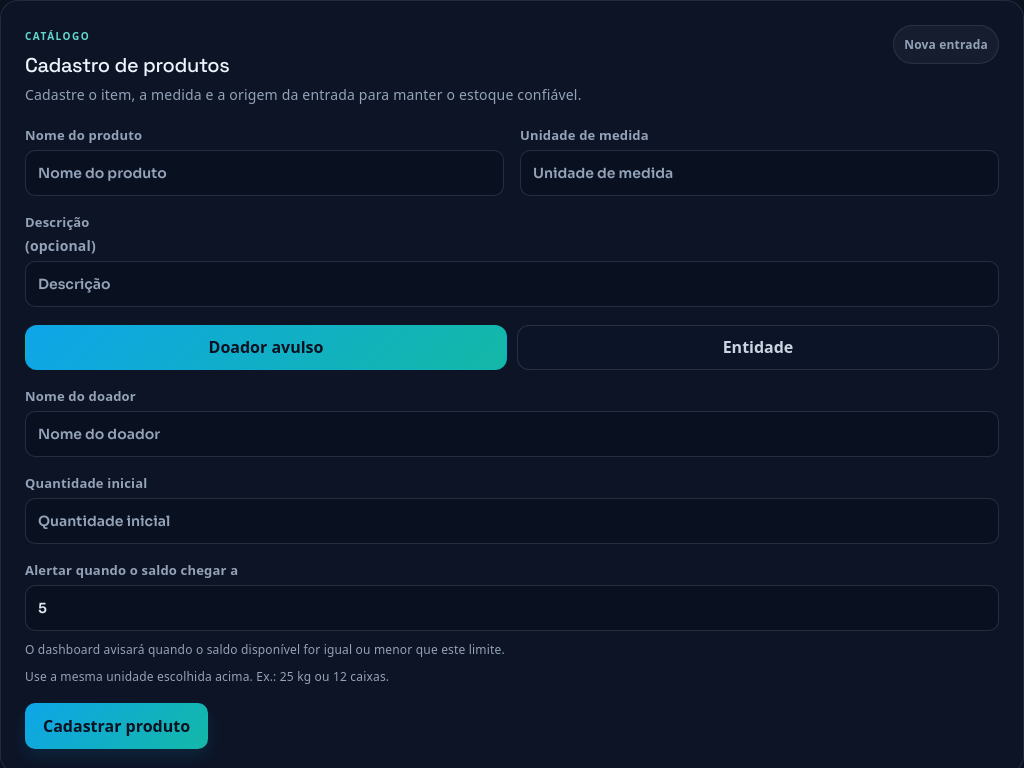
cadastra produto com doador avulso
The width and height of the screenshot is (1024, 768).
Type "Arroz" into the field with placeholder "Nome do produto".
click(264, 173); type("Arroz")  # box [25, 150, 504, 196]
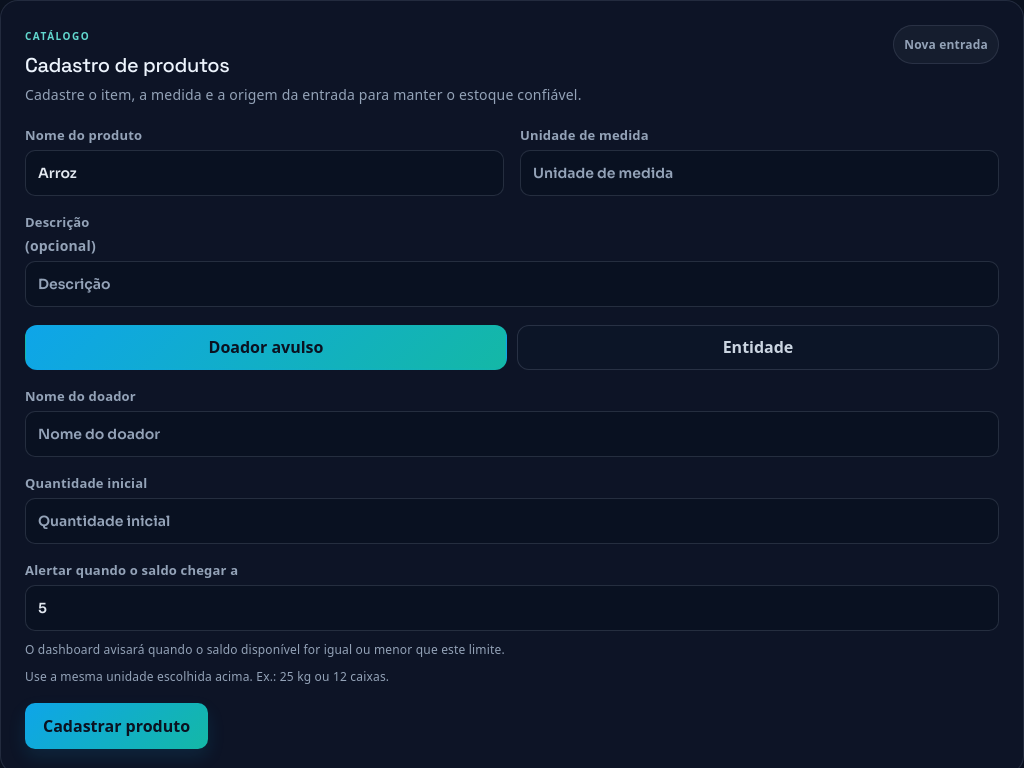
Type "Pacote 5kg" into the field with placeholder "Descrição".
click(512, 284); type("Pacote 5kg")  # box [25, 261, 999, 307]
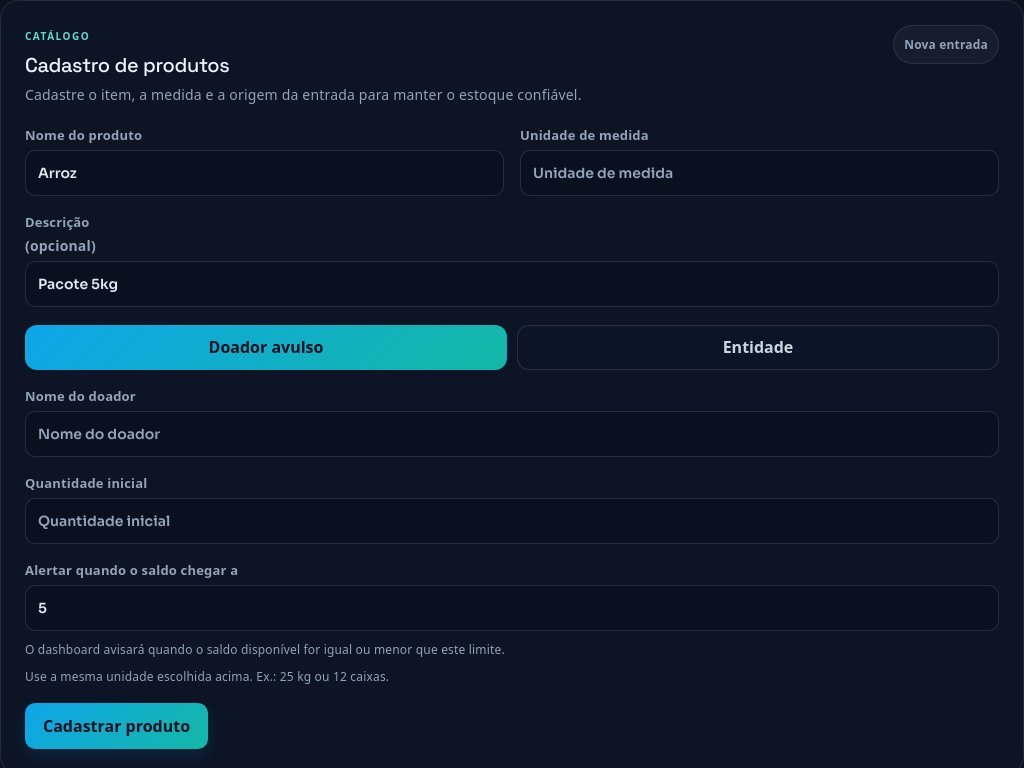
Type "kg" into the field with placeholder "Unidade de medida".
click(760, 173); type("kg")  # box [520, 150, 999, 196]
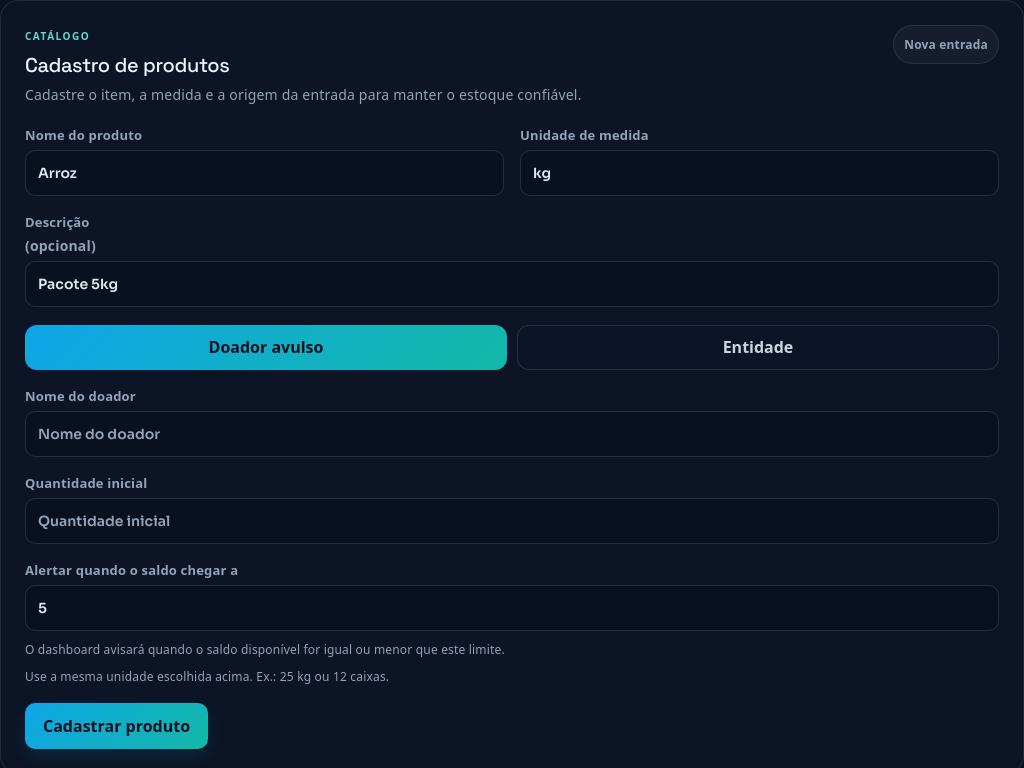
Type "Joao Silva" into the field with placeholder "Nome do doador".
click(512, 434); type("Joao Silva")  # box [25, 411, 999, 457]
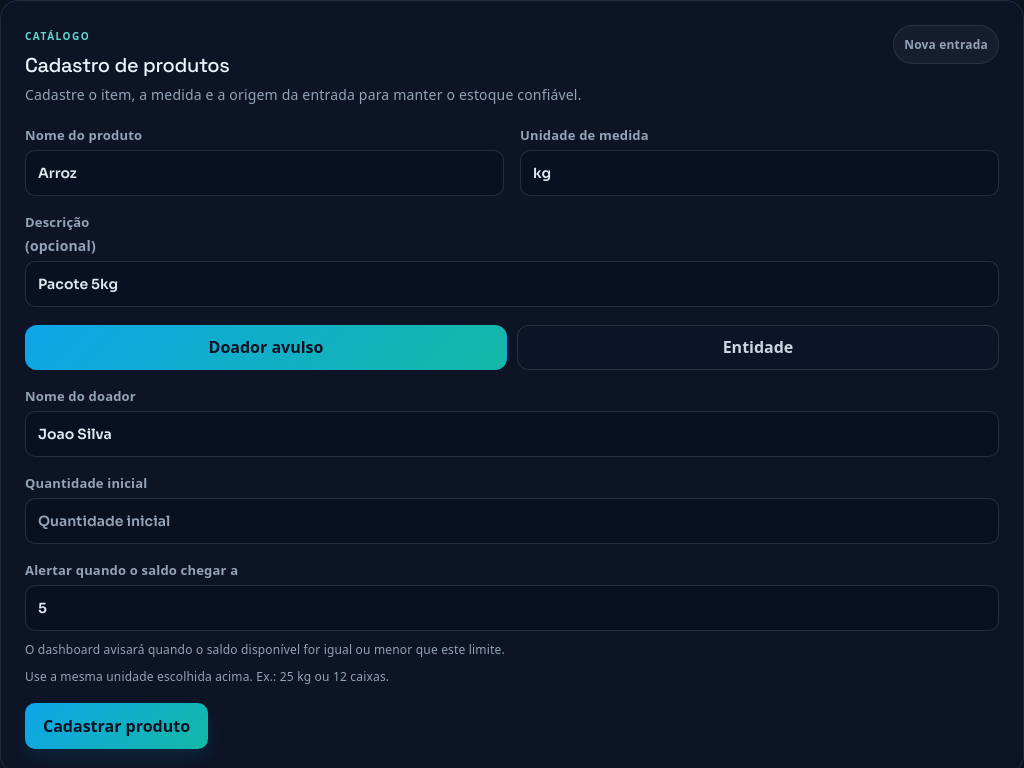
Type "10" into the number field with placeholder "Quantidade inicial".
click(512, 521); type("10")  # box [25, 498, 999, 544]
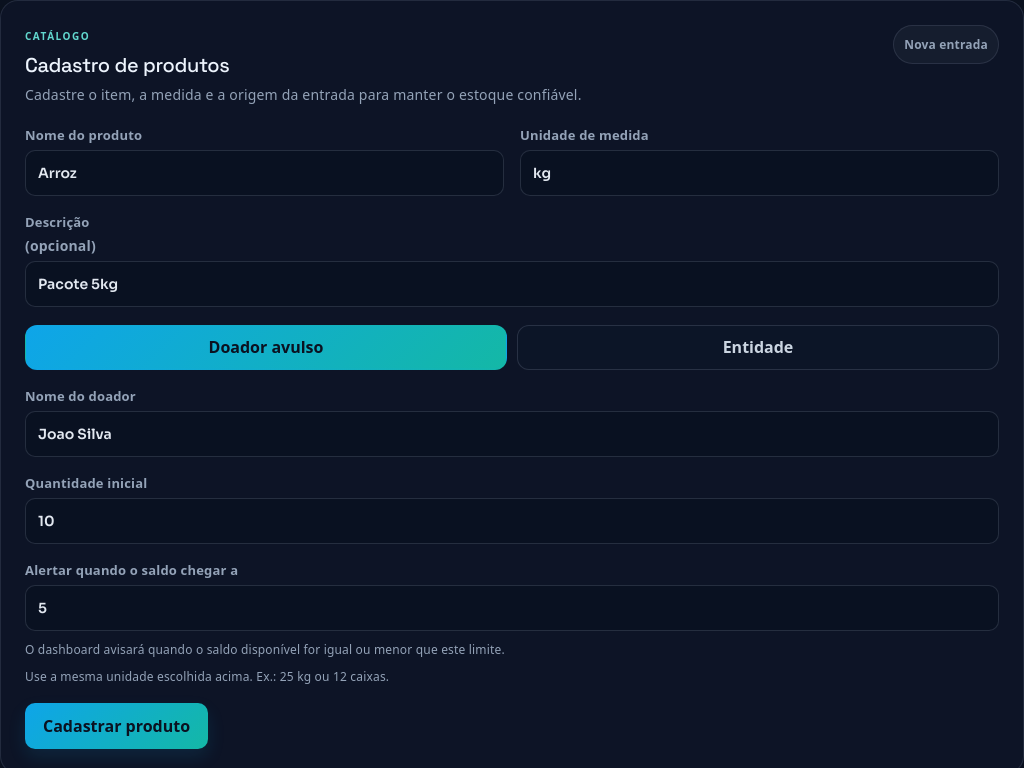
Click the button "Cadastrar produto".
click(116, 726)  # box [25, 703, 208, 749]
(page scrolled)
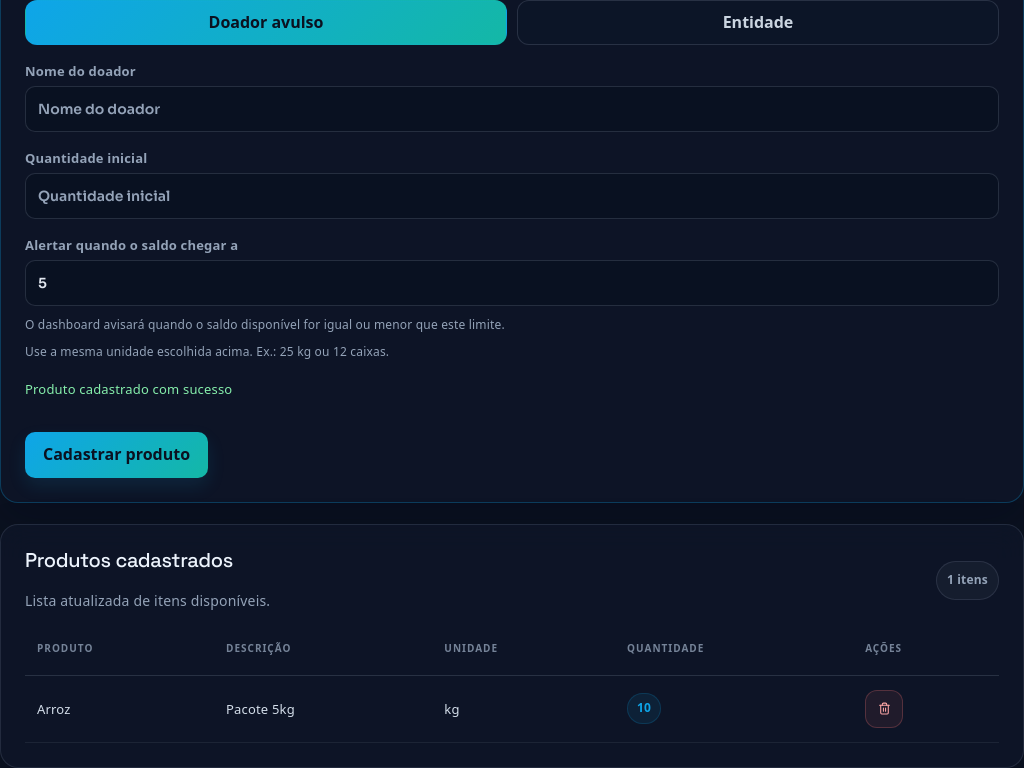
Check: the text "Produto cadastrado com sucesso" is shown, box [25, 380, 232, 398]
Check: the text "Arroz" is shown, box [25, 675, 214, 742]
